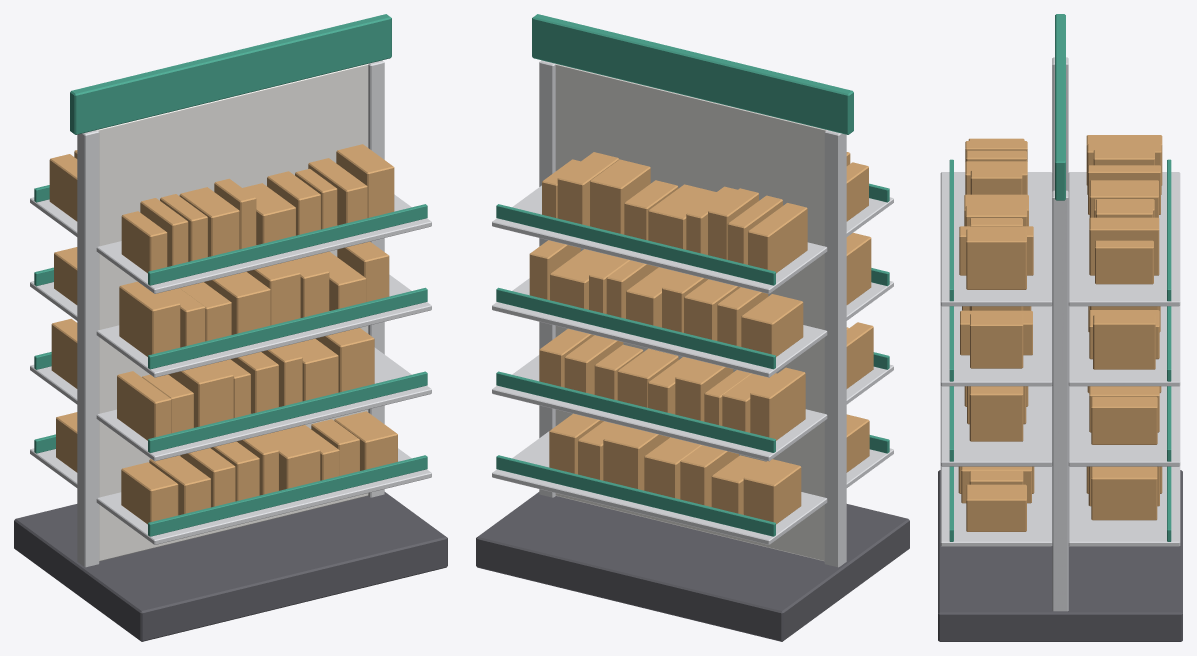
Rendered from petrol-station-and-forecourt-shop-snack-gondola-1800-f03bcc47__33968.glb.
3 views of the same model, side by side, from view 1: azimuth 30°, elevation 25°; view 2: azimuth 150°, elevation 25°; view 3: azimuth 270°, elevation 25° (orthographic). The views are drawn at different scales.
Visible parts, largest first — view 1: snack-gondola-1800; view 2: snack-gondola-1800; view 3: snack-gondola-1800.
Part boxes in pixels (<box>): snack-gondola-1800: <box>14,14,447,641</box>; snack-gondola-1800: <box>476,14,909,641</box>; snack-gondola-1800: <box>938,14,1182,641</box>.
Bounding box in the file's own units: 1.29 × 1.96 × 0.9001.
